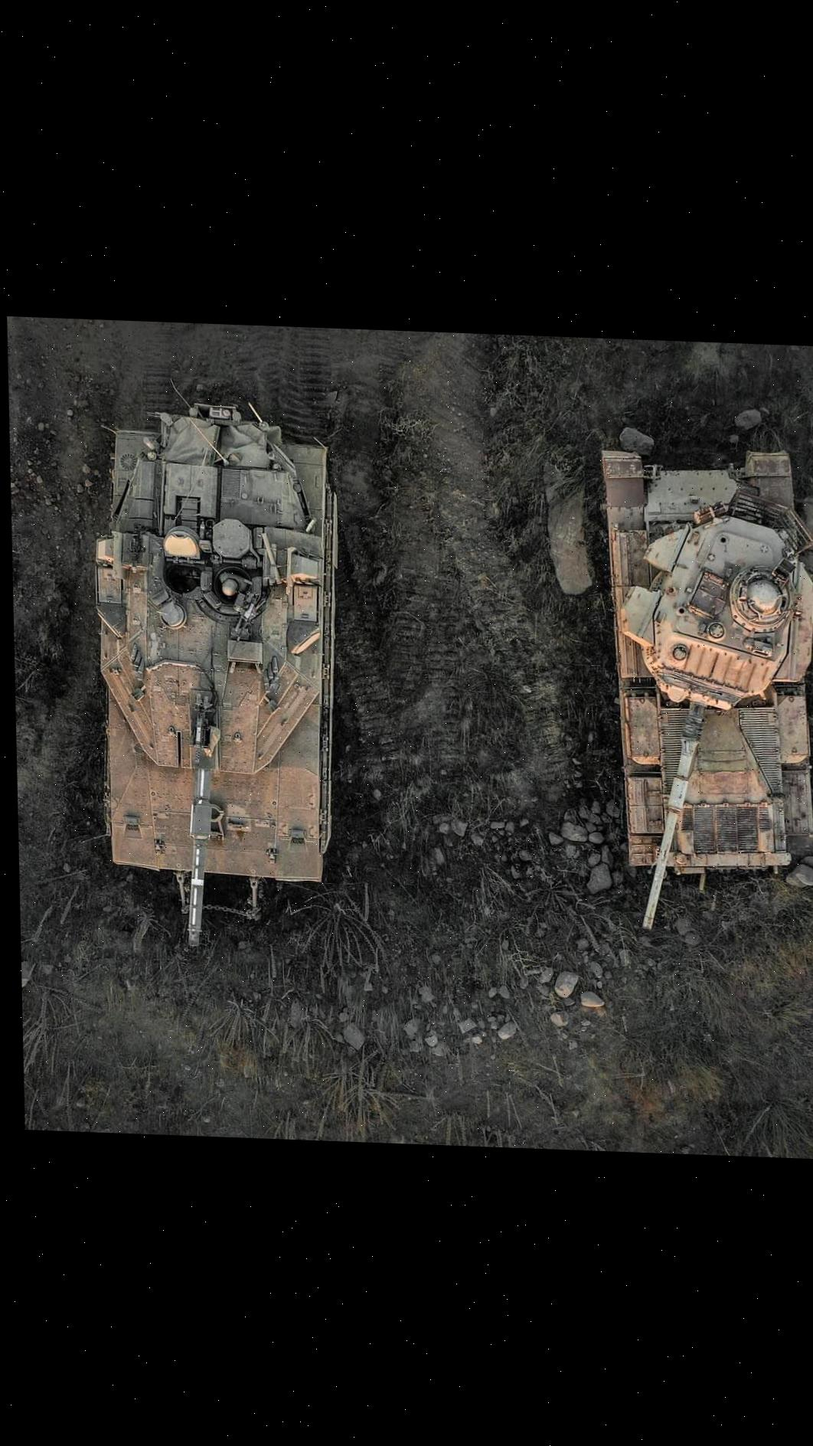tank: (94, 401, 343, 899), (604, 431, 813, 905)
